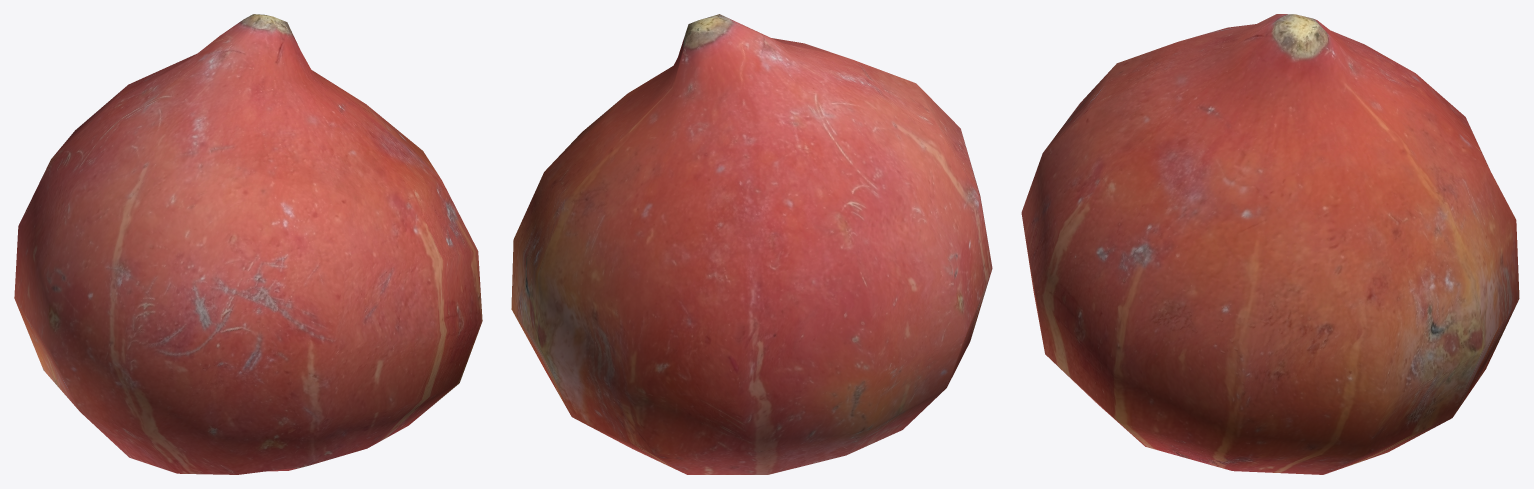
Rendered from A146_Orange_low.fbx.
3 renders of one model, left to right at view 1: azimuth 30°, elevation 25°; view 2: azimuth 150°, elevation 25°; view 3: azimuth 270°, elevation 25°, orthographic. The views are drawn at different scales.
Visible parts, largest first — view 1: A146_Orange_low; view 2: A146_Orange_low; view 3: A146_Orange_low.
Boxes of the visible parts, left/top/right/bottom form: A146_Orange_low: left=14, top=14, right=482, bottom=474; A146_Orange_low: left=511, top=14, right=992, bottom=474; A146_Orange_low: left=1021, top=14, right=1519, bottom=474.
Bounding box in the file's own units: 10.22 × 10.49 × 10.05.
Materials: 1 (1 with a texture image).
